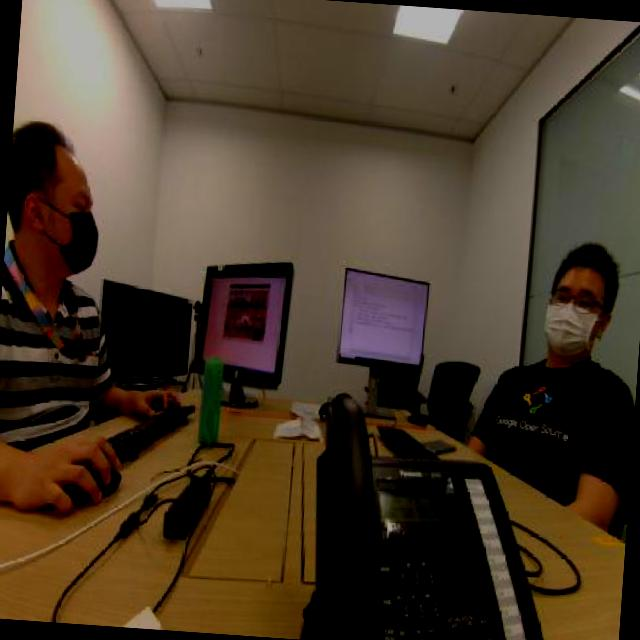Person: (0, 94, 134, 469), (516, 192, 627, 462)
